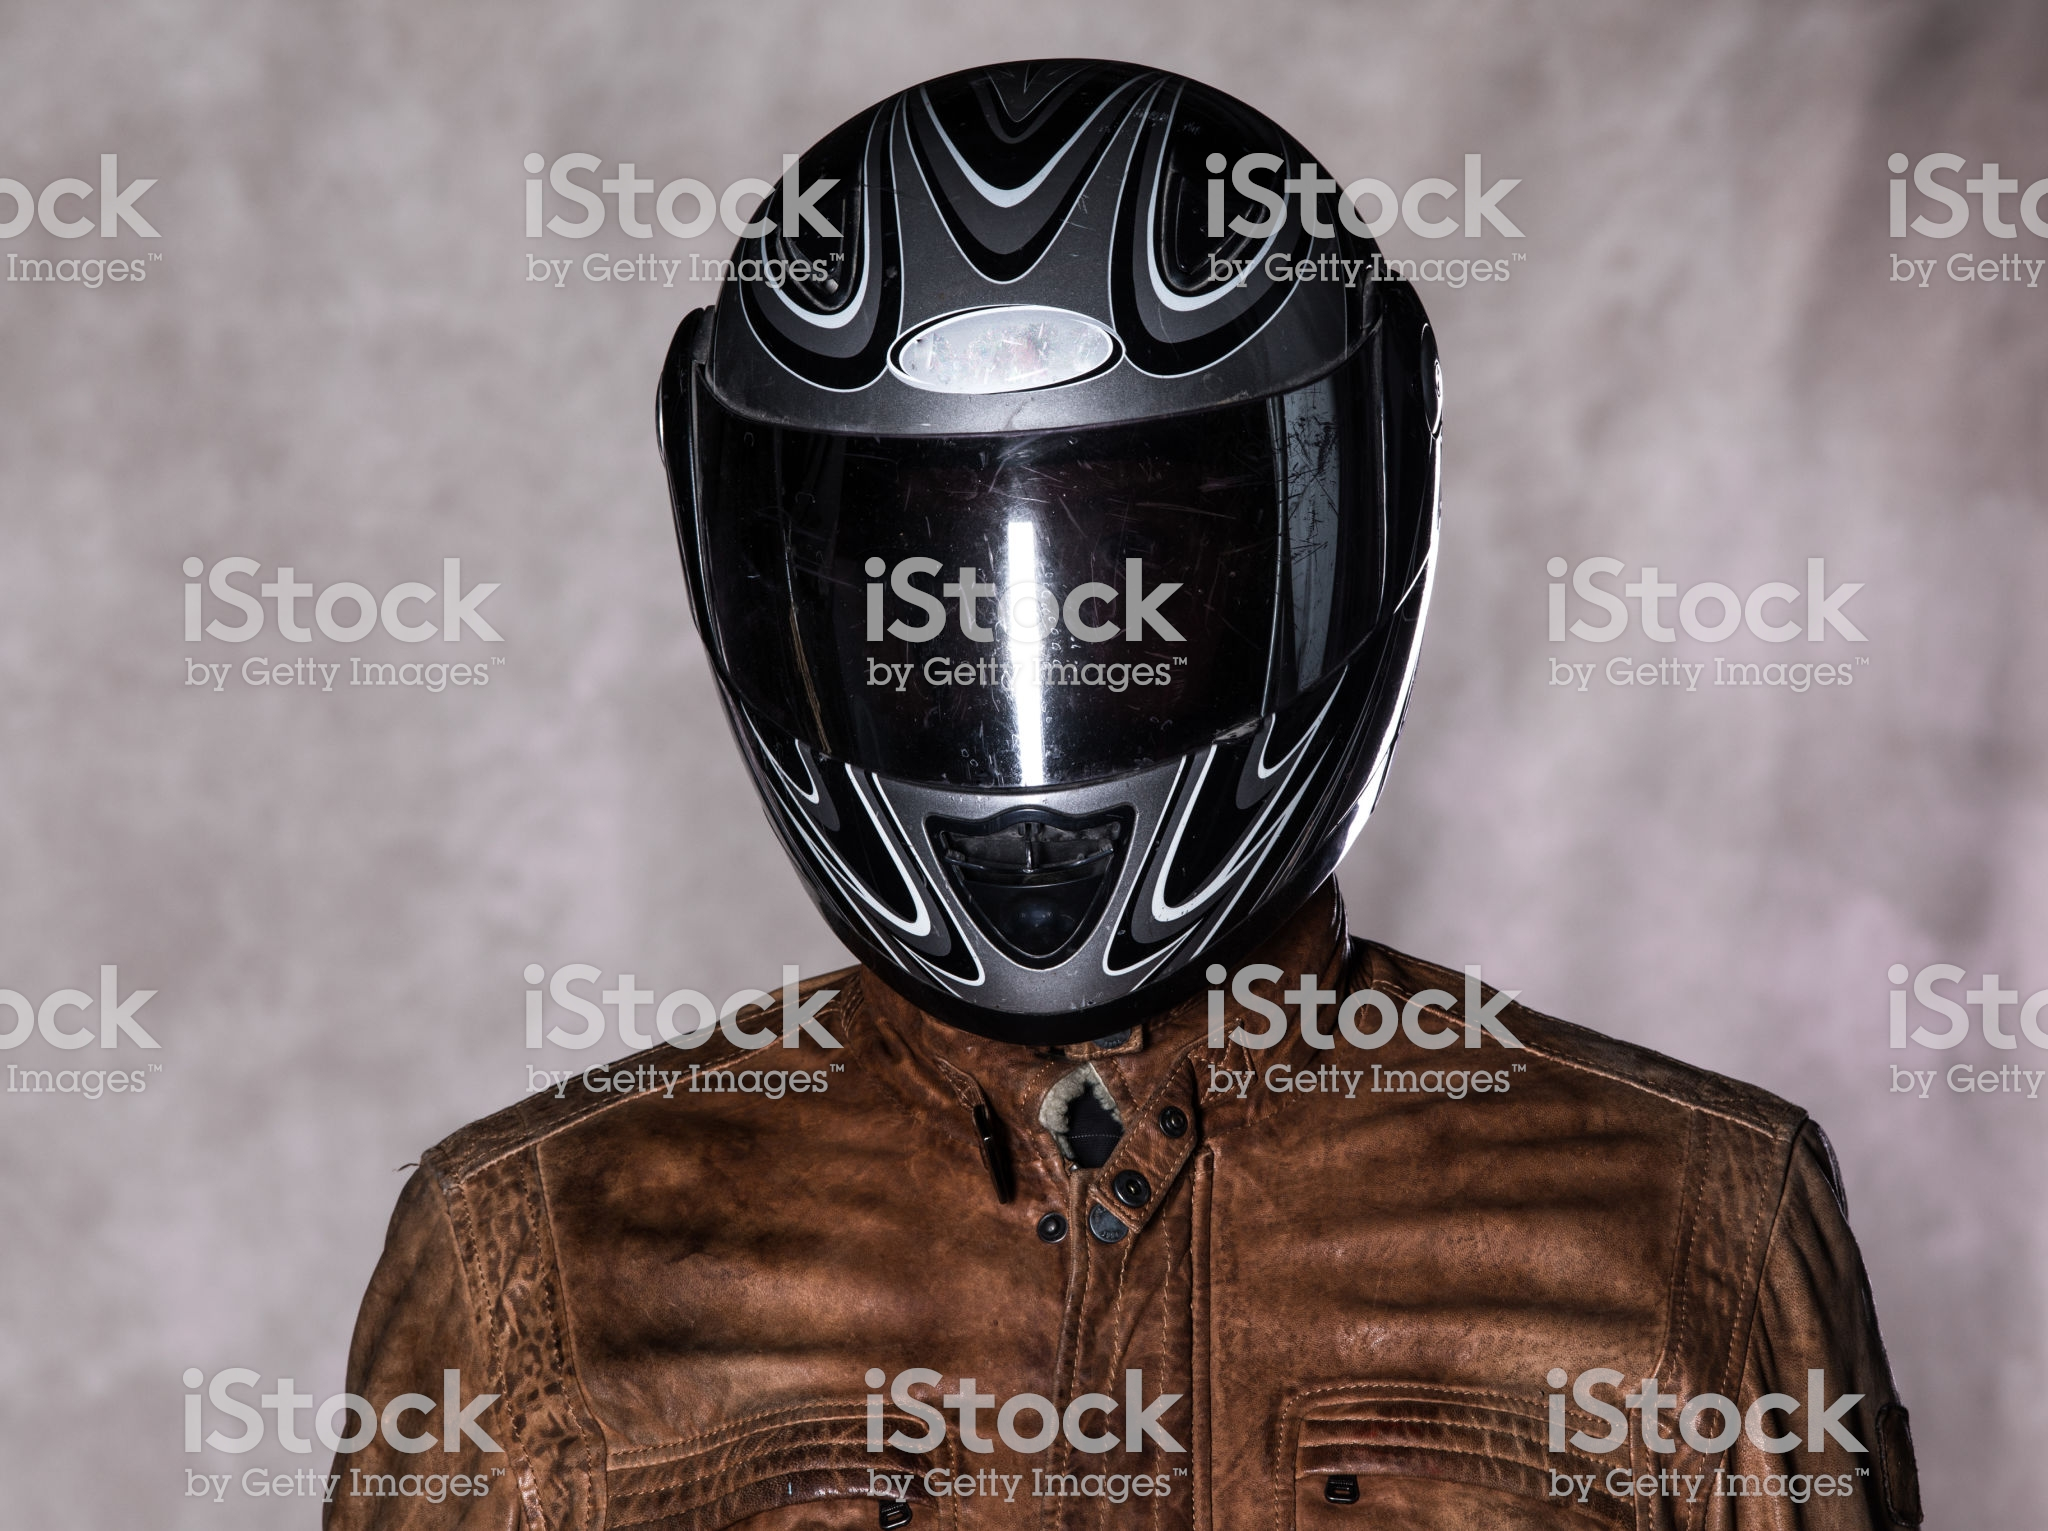helmet: (653, 105, 1403, 997)
